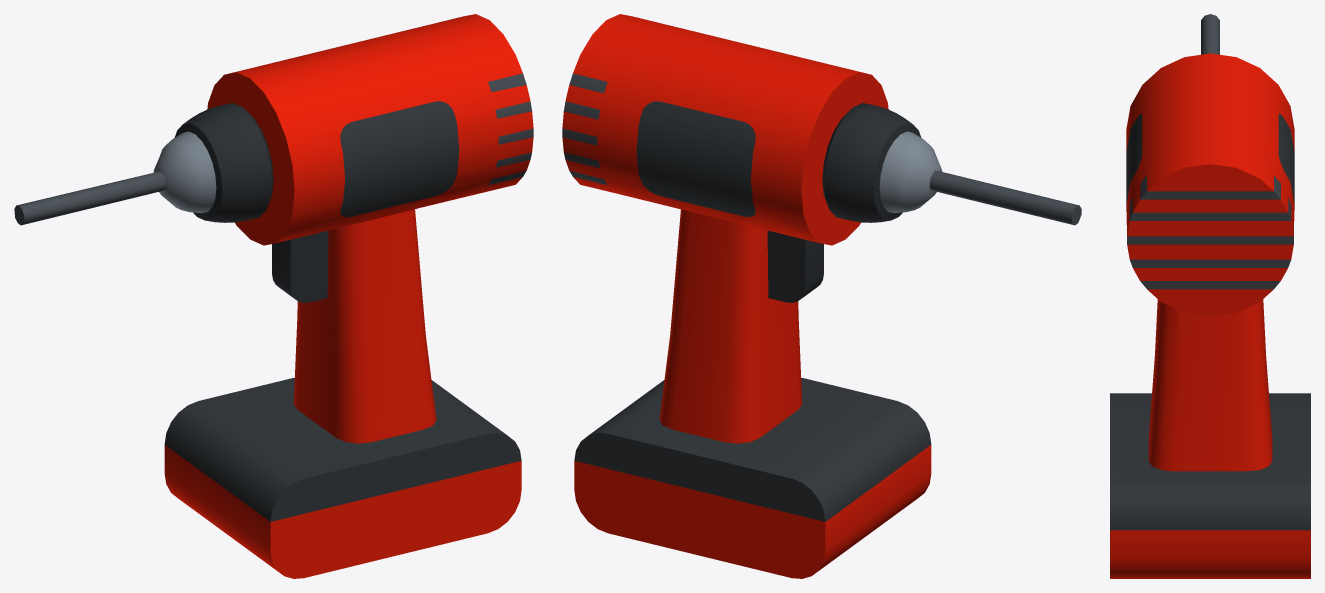
File: Drill.fbx
The picture shows the model from 3 angles, left to right: view 1: azimuth 30°, elevation 25°; view 2: azimuth 150°, elevation 25°; view 3: azimuth 270°, elevation 25°; orthographic projection. The views are drawn at different scales.
Visible parts, largest first — view 1: Drill; view 2: Drill; view 3: Drill.
Boxes of the visible parts, bbox=[...] form: Drill: bbox=[14, 14, 533, 578]; Drill: bbox=[562, 14, 1081, 578]; Drill: bbox=[1110, 14, 1310, 578].
Bounding box in the file's own units: 0.7817 × 0.7325 × 0.3049.
